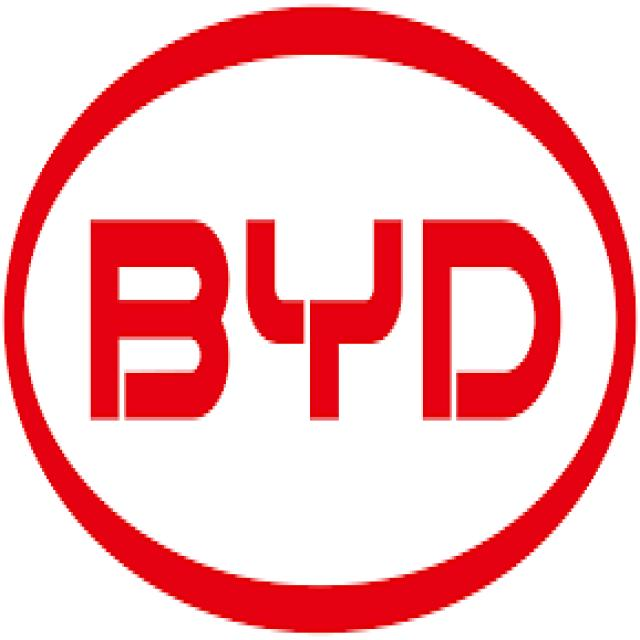byd: (86, 202, 567, 427)
